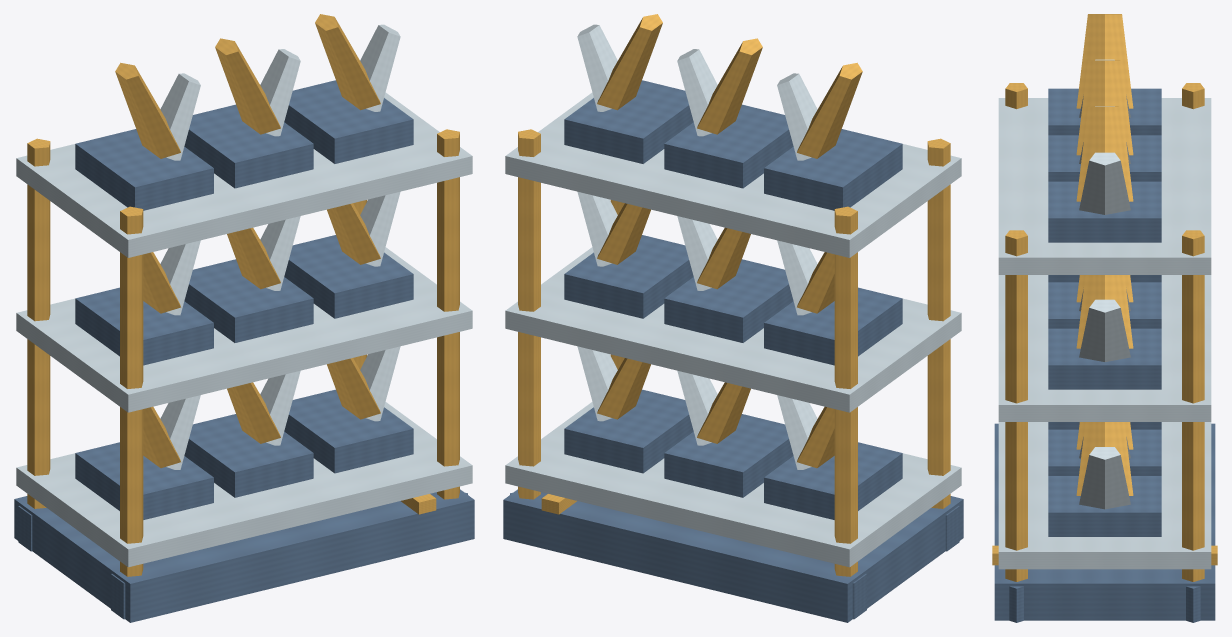
File: atlas100-s054-a01.lod1.glb
The picture shows the model from 3 angles, left to right: view 1: azimuth 30°, elevation 25°; view 2: azimuth 150°, elevation 25°; view 3: azimuth 270°, elevation 25°; orthographic projection. The views are drawn at different scales.
Parts seen in each view (by area): view 1: atlas100-s054-a01:part-000, atlas100-s054-a01:part-031, atlas100-s054-a01:part-021, atlas100-s054-a01:part-011, atlas100-s054-a01:part-005, atlas100-s054-a01:part-032, atlas100-s054-a01:part-003, atlas100-s054-a01:part-009, atlas100-s054-a01:part-028, atlas100-s054-a01:part-018, atlas100-s054-a01:part-038, atlas100-s054-a01:part-015 (+22 smaller); view 2: atlas100-s054-a01:part-000, atlas100-s054-a01:part-031, atlas100-s054-a01:part-021, atlas100-s054-a01:part-011, atlas100-s054-a01:part-003, atlas100-s054-a01:part-032, atlas100-s054-a01:part-005, atlas100-s054-a01:part-007, atlas100-s054-a01:part-028, atlas100-s054-a01:part-018, atlas100-s054-a01:part-038, atlas100-s054-a01:part-015 (+22 smaller); view 3: atlas100-s054-a01:part-031, atlas100-s054-a01:part-011, atlas100-s054-a01:part-021, atlas100-s054-a01:part-000, atlas100-s054-a01:part-007, atlas100-s054-a01:part-009, atlas100-s054-a01:part-038, atlas100-s054-a01:part-028, atlas100-s054-a01:part-018, atlas100-s054-a01:part-032, atlas100-s054-a01:part-015, atlas100-s054-a01:part-025 (+17 smaller).
Part boxes in pixels (<box>): atlas100-s054-a01:part-000: <box>14,489,474,622</box>; atlas100-s054-a01:part-031: <box>16,92,472,257</box>; atlas100-s054-a01:part-021: <box>16,247,472,412</box>; atlas100-s054-a01:part-011: <box>16,402,472,567</box>; atlas100-s054-a01:part-005: <box>120,206,143,576</box>; atlas100-s054-a01:part-032: <box>75,129,213,210</box>; atlas100-s054-a01:part-003: <box>27,138,50,508</box>; atlas100-s054-a01:part-009: <box>437,129,459,499</box>; atlas100-s054-a01:part-028: <box>284,235,413,318</box>; atlas100-s054-a01:part-018: <box>284,389,413,473</box>; atlas100-s054-a01:part-038: <box>284,80,413,163</box>; atlas100-s054-a01:part-015: <box>184,414,313,497</box>; atlas100-s054-a01:part-000: <box>503,489,963,622</box>; atlas100-s054-a01:part-031: <box>505,92,961,257</box>; atlas100-s054-a01:part-021: <box>505,247,961,412</box>; atlas100-s054-a01:part-011: <box>505,402,961,567</box>; atlas100-s054-a01:part-003: <box>834,206,857,576</box>; atlas100-s054-a01:part-032: <box>764,129,902,210</box>; atlas100-s054-a01:part-005: <box>927,138,950,508</box>; atlas100-s054-a01:part-007: <box>518,129,540,499</box>; atlas100-s054-a01:part-028: <box>564,235,693,318</box>; atlas100-s054-a01:part-018: <box>564,389,693,473</box>; atlas100-s054-a01:part-038: <box>564,80,693,163</box>; atlas100-s054-a01:part-015: <box>664,414,793,497</box>; atlas100-s054-a01:part-031: <box>998,98,1211,274</box>; atlas100-s054-a01:part-011: <box>998,422,1211,569</box>; atlas100-s054-a01:part-021: <box>998,275,1211,421</box>; atlas100-s054-a01:part-000: <box>994,423,1215,620</box>; atlas100-s054-a01:part-007: <box>1182,230,1204,581</box>; atlas100-s054-a01:part-009: <box>1005,230,1027,581</box>; atlas100-s054-a01:part-038: <box>1048,181,1161,242</box>; atlas100-s054-a01:part-028: <box>1048,328,1161,389</box>; atlas100-s054-a01:part-018: <box>1048,476,1161,536</box>; atlas100-s054-a01:part-032: <box>1048,88,1161,135</box>; atlas100-s054-a01:part-015: <box>1048,429,1161,475</box>; atlas100-s054-a01:part-025: <box>1048,282,1161,328</box>.
Size of the model in its own units: 2.44 by 3.33 by 1.43.
3 materials, 3 textured.
